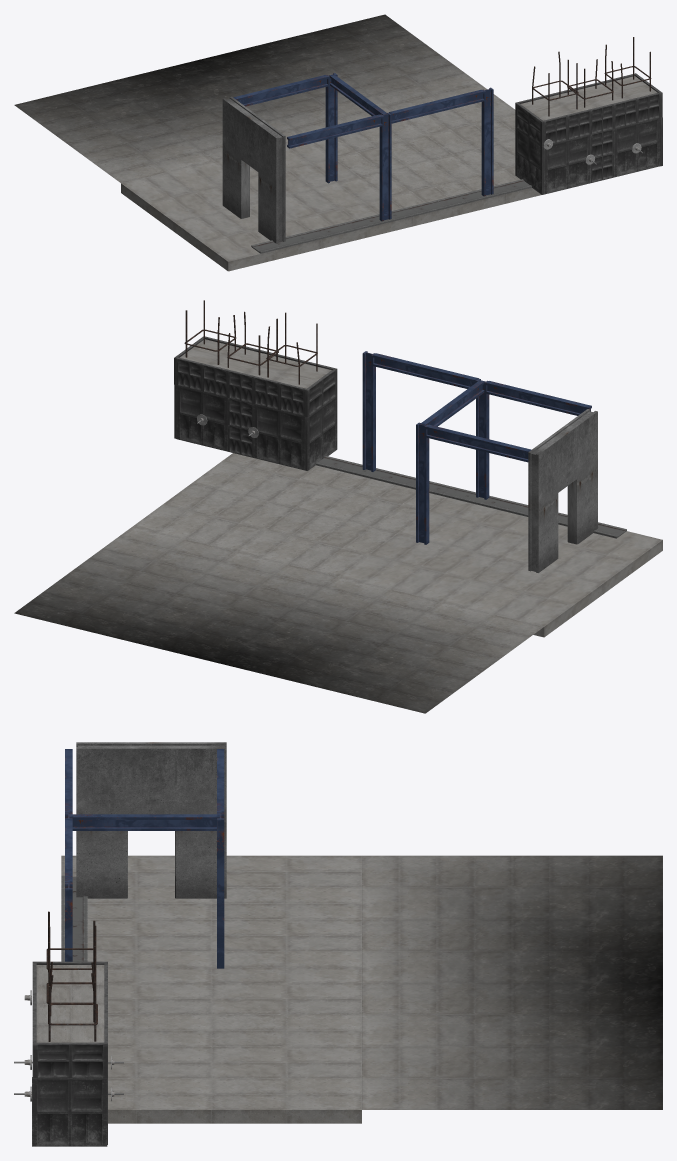
Rendered from BuildingMap_2_0.gltf.
3 views of the same model, one above another, from view 1: azimuth 30°, elevation 25°; view 2: azimuth 150°, elevation 25°; view 3: azimuth 270°, elevation 25° (orthographic). The views are drawn at different scales.
Visible parts, largest first — view 1: SM_Floors_Plain_44, SM_Floors_Plain_49, SM_Floors_Thick_126, SM_Floors_Thick_125, SM_Building_Pieces_Wall4m_Door6, SM_Floors_Plain_2, StaticMeshComponent11, StaticMeshComponent10, StaticMeshComponent8, SM_Building_Pieces_2_SteelRudder2, SM_Building_Pieces_2_SteelRudder4, SM_Building_Pieces_2_SteelRudder1 (+18 smaller); view 2: SM_Floors_Plain_49, SM_Floors_Plain_44, SM_Floors_Thick_126, SM_Floors_Thick_125, SM_Building_Pieces_Wall4m_Door6, SM_Floors_Plain_2, StaticMeshComponent7, StaticMeshComponent6, StaticMeshComponent8, SM_Building_Pieces_2_SteelRudder13, SM_Building_Pieces_2_SteelRudder4, SM_Building_Pieces_2_SteelRudder7 (+16 smaller); view 3: SM_Floors_Plain_44, SM_Floors_Plain_49, SM_Floors_Thick_125, SM_Floors_Thick_126, SM_Building_Pieces_Wall4m_Door6, StaticMeshComponent9, SM_Floors_Plain_2, SM_Exterior_1__Concrete_Cast_29, SM_Building_Pieces_2_SteelRudder5, SM_Building_Pieces_2_SteelRudder13, SM_Building_Pieces_2_MetalBorder58, SM_Building_Pieces_2_RebarPiece3 (+1 smaller).
Boxes of the visible parts, x1,y1,x2,y2 form: SM_Floors_Plain_44: (14,59,299,183); SM_Floors_Plain_49: (200,14,487,133); SM_Floors_Thick_126: (121,142,413,271); SM_Floors_Thick_125: (314,94,541,225); SM_Building_Pieces_Wall4m_Door6: (222,96,285,243); SM_Floors_Plain_2: (520,76,657,120); StaticMeshComponent11: (544,134,590,194); StaticMeshComponent10: (614,118,660,177); StaticMeshComponent8: (515,127,544,194); SM_Building_Pieces_2_SteelRudder2: (379,112,391,221); SM_Building_Pieces_2_SteelRudder4: (481,87,493,196); SM_Building_Pieces_2_SteelRudder1: (287,114,382,148); SM_Floors_Plain_49: (14,526,337,663); SM_Floors_Plain_44: (220,576,543,713); SM_Floors_Thick_126: (339,497,662,637); SM_Floors_Thick_125: (133,453,446,576); SM_Building_Pieces_Wall4m_Door6: (528,409,597,572); SM_Floors_Plain_2: (180,339,331,388); StaticMeshComponent7: (253,404,305,470); StaticMeshComponent6: (176,385,227,451); StaticMeshComponent8: (305,396,337,470); SM_Building_Pieces_2_SteelRudder13: (416,422,429,544); SM_Building_Pieces_2_SteelRudder4: (362,351,375,471); SM_Building_Pieces_2_SteelRudder7: (426,424,531,462); SM_Floors_Plain_44: (362,855,662,982); SM_Floors_Plain_49: (362,983,662,1109); SM_Floors_Thick_125: (108,983,361,1123); SM_Floors_Thick_126: (61,855,361,982); SM_Building_Pieces_Wall4m_Door6: (76,742,226,898); StaticMeshComponent9: (32,1077,107,1146); SM_Floors_Plain_2: (36,965,104,1042); SM_Exterior_1__Concrete_Cast_29: (32,1042,107,1078); SM_Building_Pieces_2_SteelRudder5: (69,814,219,830); SM_Building_Pieces_2_SteelRudder13: (217,813,224,968); SM_Building_Pieces_2_MetalBorder58: (61,875,87,939); SM_Building_Pieces_2_RebarPiece3: (48,962,97,1041).
Size of the model in its own units: 18.3 by 5.24 by 17.26.
Materials: 7 (7 with a texture image).
